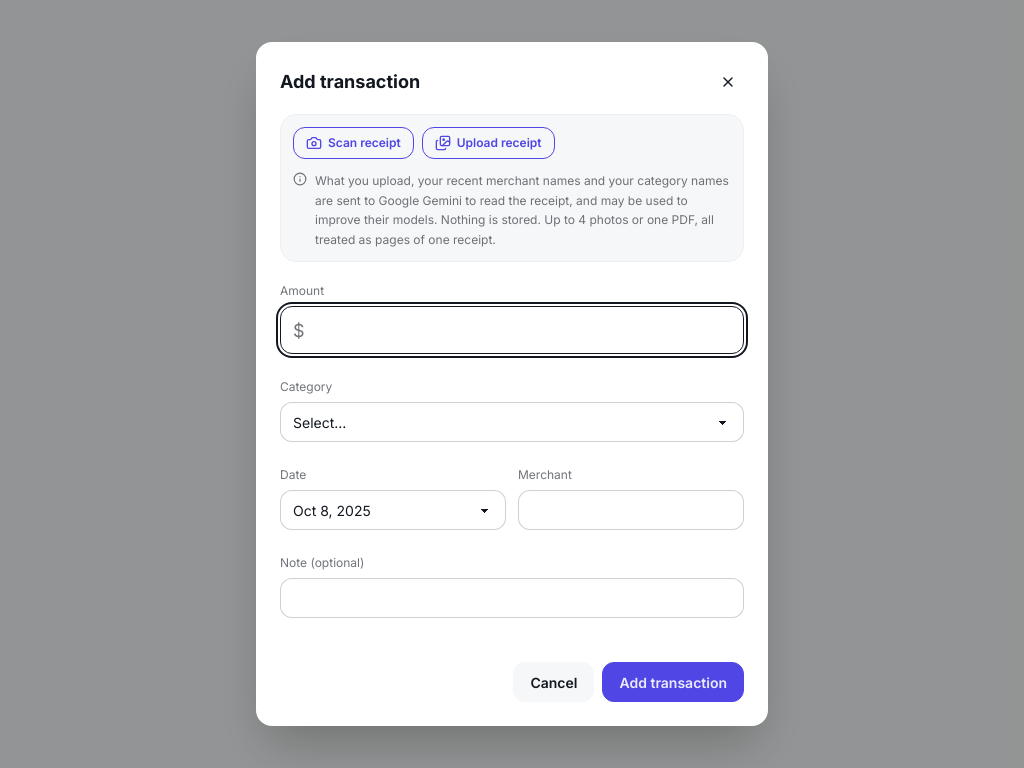
it: AC3: a missing required field › shows all four messages at once and saves nothing
The width and height of the screenshot is (1024, 768).
Click the button "Add transaction" at (673, 682), box x1=602 y1=662 x2=744 y2=702
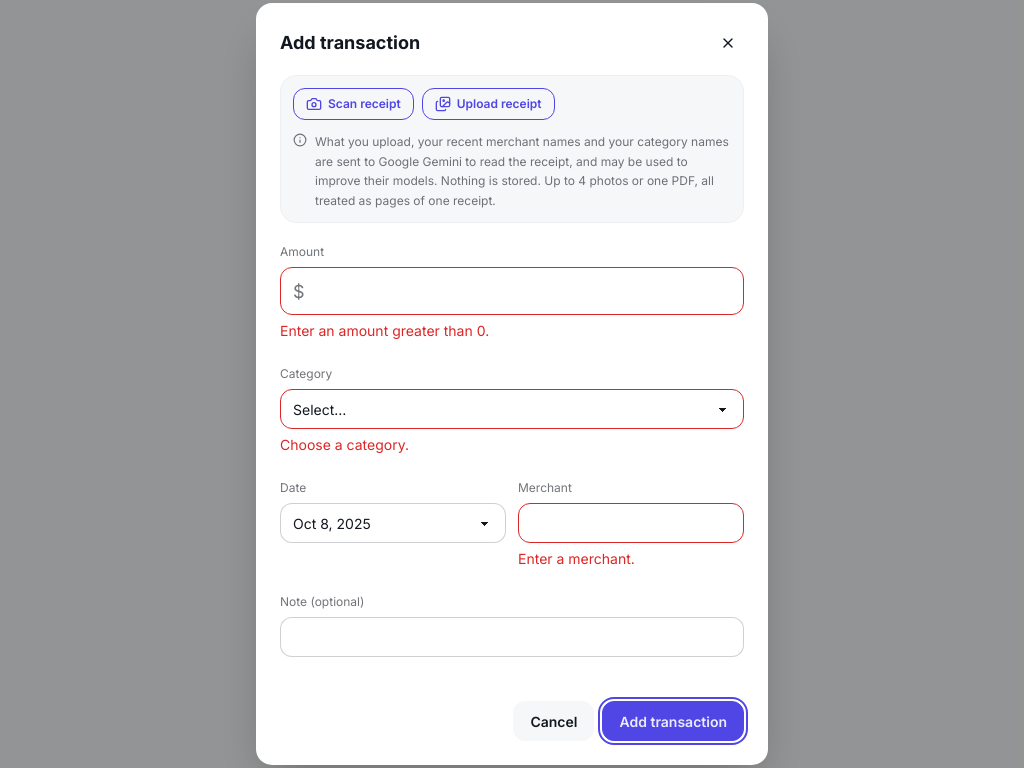
Now the text "Enter an amount greater than 0." is shown, box x1=280 y1=322 x2=489 y2=339
Now the text "Choose a category." is shown, box x1=280 y1=436 x2=409 y2=453
Now the text "Enter a merchant." is shown, box x1=518 y1=550 x2=635 y2=567
